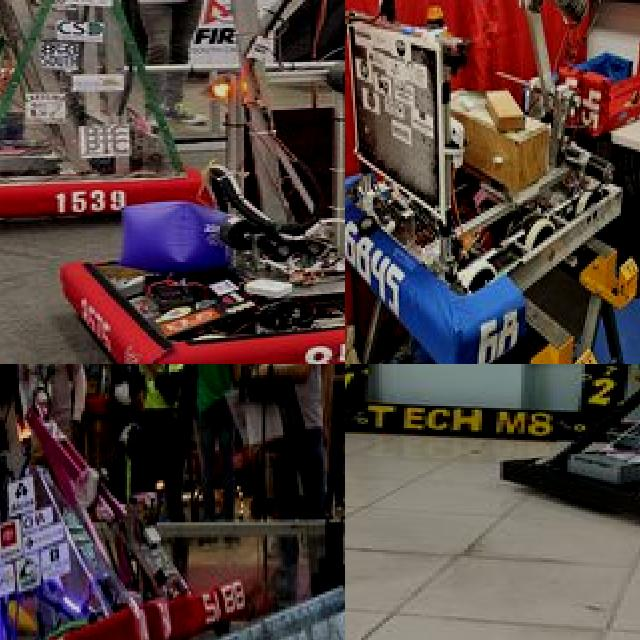FRC-Robots: (104, 0, 345, 364), (345, 37, 640, 330), (33, 388, 265, 640), (0, 470, 165, 640), (65, 0, 163, 243), (513, 364, 640, 537)
